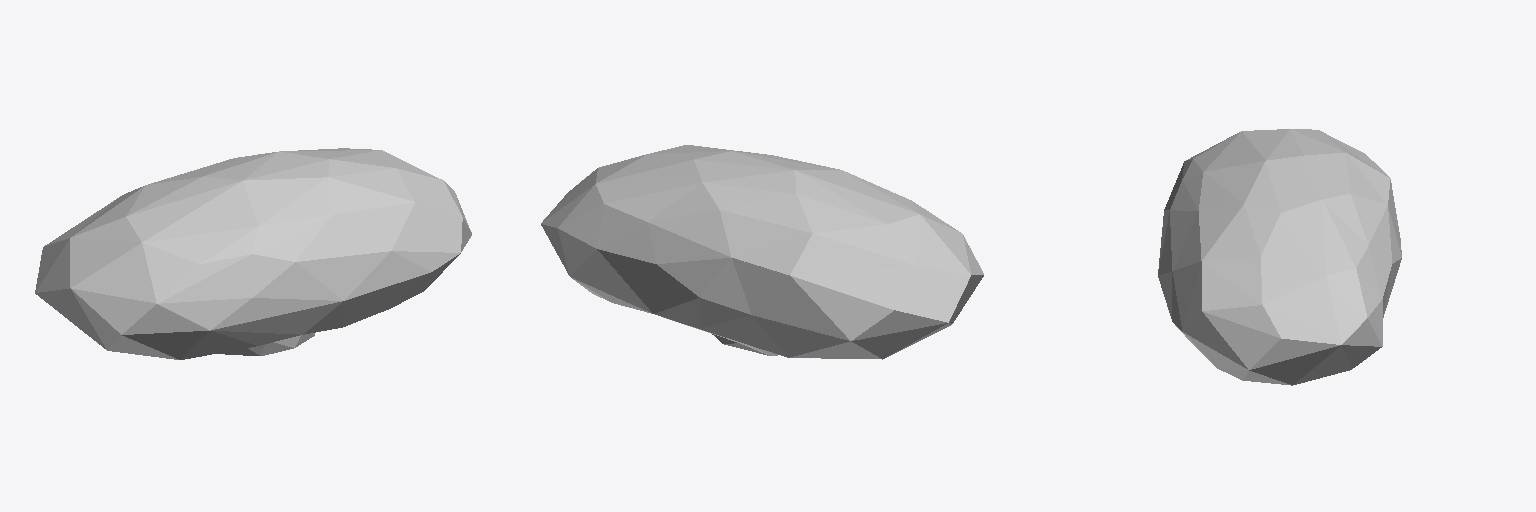
File: balloon2.obj
3 views of the same model, side by side, from view 1: azimuth 30°, elevation 25°; view 2: azimuth 150°, elevation 25°; view 3: azimuth 270°, elevation 25° (orthographic).
Visible parts, largest first — view 1: Icosphere.001; view 2: Icosphere.001; view 3: Icosphere.001.
Part boxes in pixels (bbox=[...]): Icosphere.001: bbox=[35, 148, 471, 359]; Icosphere.001: bbox=[541, 145, 983, 359]; Icosphere.001: bbox=[1158, 129, 1401, 385].
Size of the model in its own units: 3.19 by 1.3 by 1.68.